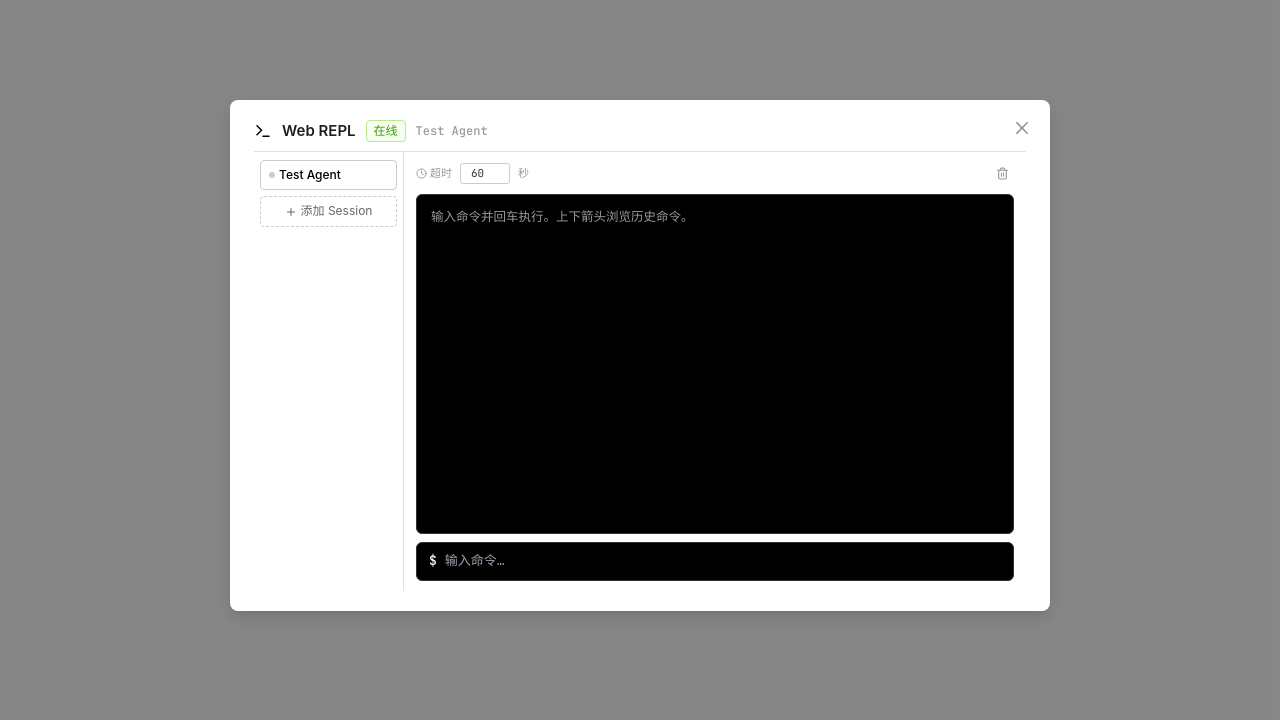
Test: ReplModal 输入提示（tip） › 输入变化后旧请求结果被丢弃（竞态）
The width and height of the screenshot is (1280, 720).
Type "py" into the field with placeholder "输入命令…" at {"x": 723, "y": 561}, box 445,551 -> 1001,572
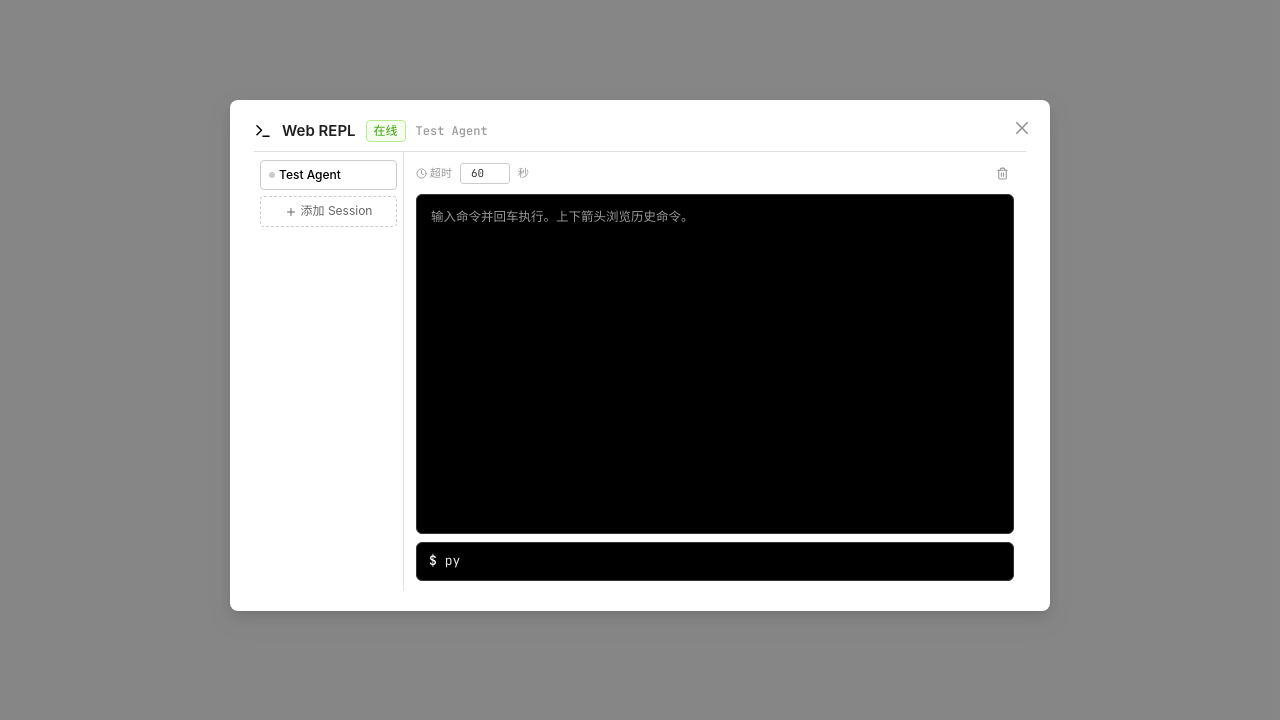
第一个请求未返回时用户继续输入，触发新请求
Replace the text in the field with placeholder "输入命令…" with "python" at {"x": 723, "y": 561}, box 445,551 -> 1001,572
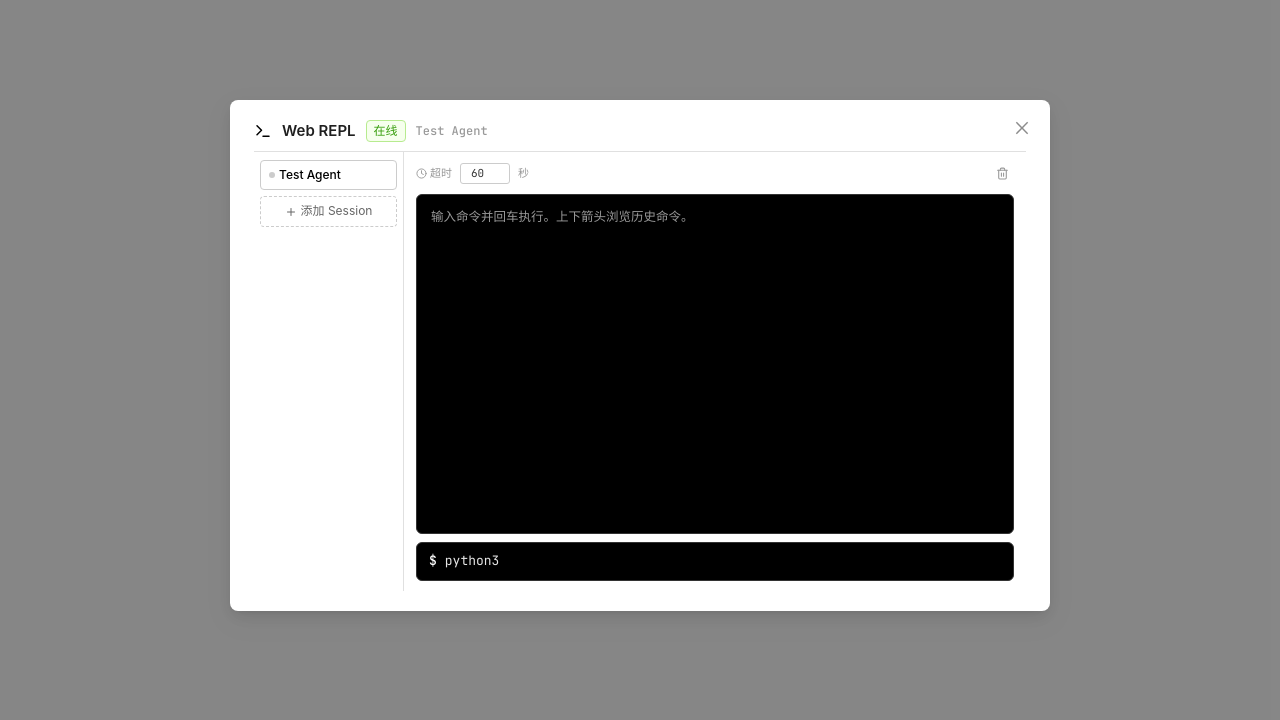
expect the field with placeholder "输入命令…" holds "python3": met, box 445,551 -> 1001,572
